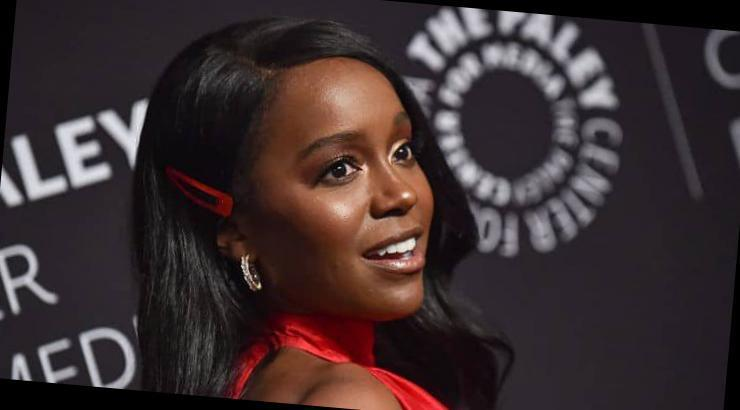Sober: (274, 81, 433, 309)
